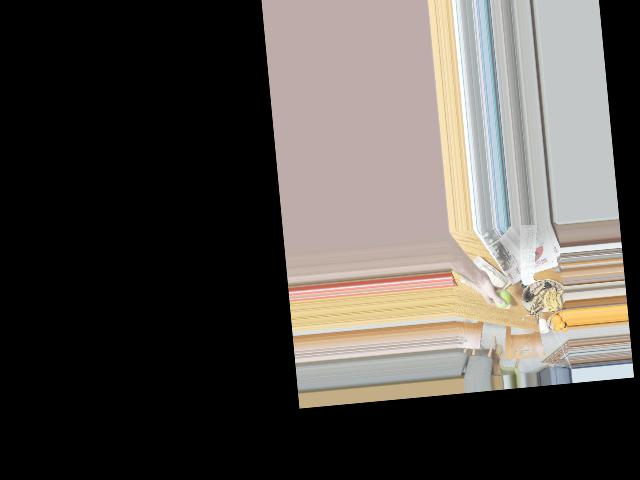apple: (491, 287, 511, 309)
